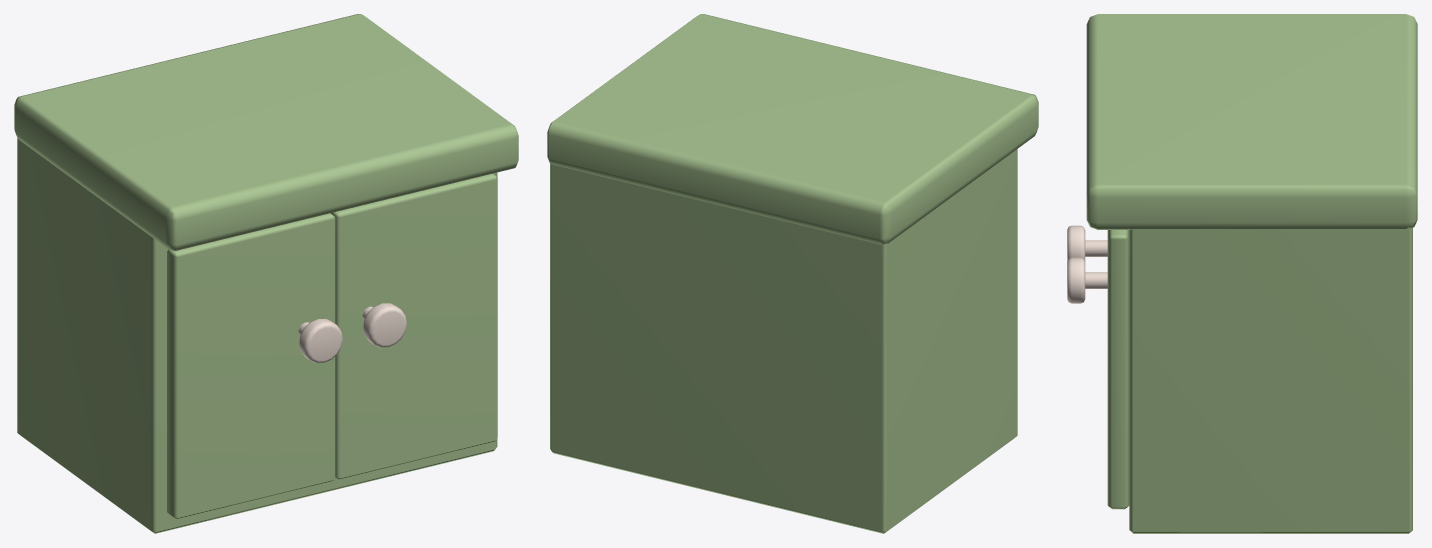
The model's file is Kitchen_Cabinet_8.glb.
3 views of the same model, side by side, from view 1: azimuth 30°, elevation 25°; view 2: azimuth 150°, elevation 25°; view 3: azimuth 270°, elevation 25° (orthographic). The views are drawn at different scales.
Parts seen in each view (by area): view 1: Kitchen_Cabinet_8; view 2: Kitchen_Cabinet_8; view 3: Kitchen_Cabinet_8.
Part boxes in pixels (x1,y1,x2,y2): Kitchen_Cabinet_8: [14, 14, 518, 533]; Kitchen_Cabinet_8: [547, 14, 1038, 533]; Kitchen_Cabinet_8: [1067, 14, 1417, 533].
Bounding box in the file's own units: 1.08 × 0.9956 × 0.9042.
Materials: 1 (1 with a texture image).
